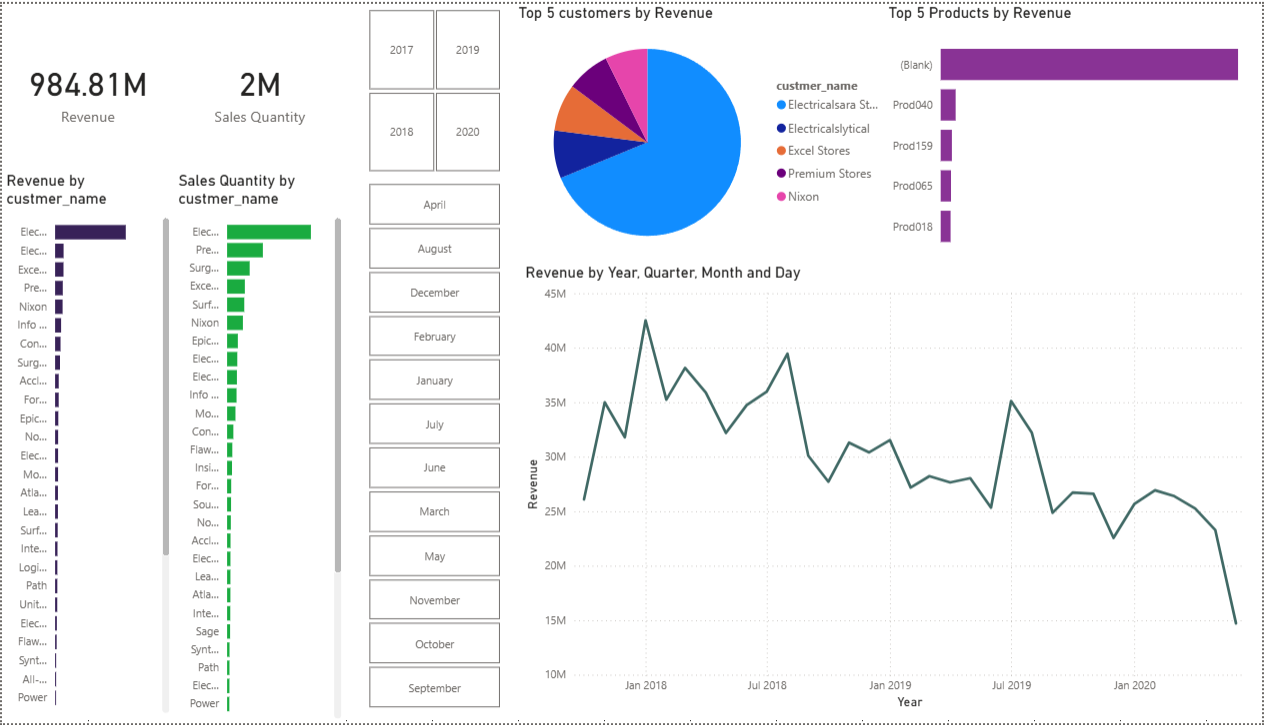

The dashboard page shown, as its layout file describes it:
{"tool":"powerbi","page":{"name":"Page 1","canvas":[1400,800],"ordinal":0},"visuals":[{"type":"card","fields":{"Values":["BaseMessures.Revenue"]},"box":[0,0,191,193],"z":0},{"type":"card","fields":{"Values":["BaseMessures.Sales Quantity"]},"box":[191,0,191,193],"z":1000},{"type":"barChart","fields":{"Y":["BaseMessures.Revenue"],"Category":["sales customers.custmer_name"]},"box":[0,187,191,607],"z":2000},{"type":"barChart","fields":{"Y":["BaseMessures.Sales Quantity"],"Category":["sales customers.custmer_name"]},"box":[190.9,186.7,190.9,613.3],"z":3000},{"type":"slicer","fields":{"Values":["sales date.year"]},"box":[382,0,195,193],"z":4000},{"type":"slicer","fields":{"Values":["sales date.month_name"]},"box":[382,193,195,596],"z":5000},{"type":"pieChart","title":"Top 5 customers by Revenue","fields":{"Category":["sales customers.custmer_name"],"Y":["BaseMessures.Revenue"]},"box":[568.5,0,420.3,289.1],"z":6000},{"type":"barChart","title":"Top 5 Products by Revenue","fields":{"Y":["BaseMessures.Revenue"],"Category":["sales products.product_code"]},"box":[980.3,0,420.3,289.1],"z":7000},{"type":"lineChart","fields":{"Y":["BaseMessures.Revenue"],"Category":["sales date.cy_date.Variation.Date Hierarchy.Year","sales date.cy_date.Variation.Date Hierarchy.Quarter","sales date.cy_date.Variation.Date Hierarchy.Month","sales date.cy_date.Variation.Date Hierarchy.Day"]},"box":[577.1,289.1,823.5,500.3],"z":8000}]}

Visuals, with their boxes in screenshot pixels (x1, y1, x2, y2), scaled from the page's 1400x800 canvas onto the 1266x727 screenshot:
card - BaseMessures.Revenue: 0,0,173,175
card - BaseMessures.Sales Quantity: 173,0,345,175
barChart - BaseMessures.Revenue x sales customers.custmer_name: 0,170,173,722
barChart - BaseMessures.Sales Quantity x sales customers.custmer_name: 173,170,345,726
slicer - sales date.year: 345,0,522,175
slicer - sales date.month_name: 345,175,522,717
"Top 5 customers by Revenue" pieChart: 514,0,894,263
"Top 5 Products by Revenue" barChart: 886,0,1265,263
lineChart - BaseMessures.Revenue x sales date.cy_date.Variation.Date Hierarchy.Year: 522,263,1265,717
